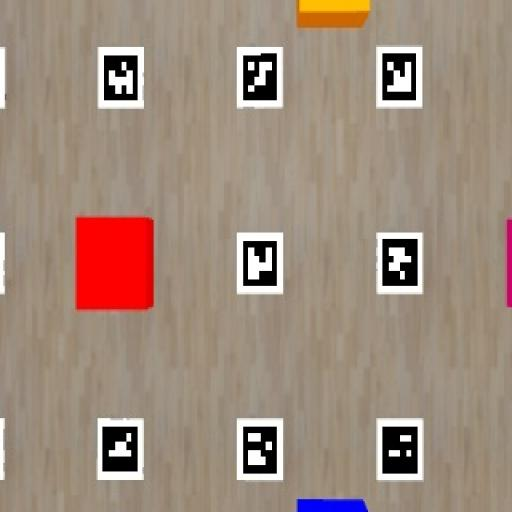car: (296, 500, 367, 511), (506, 218, 511, 307)
fire: (76, 216, 153, 311), (298, 0, 371, 27)
